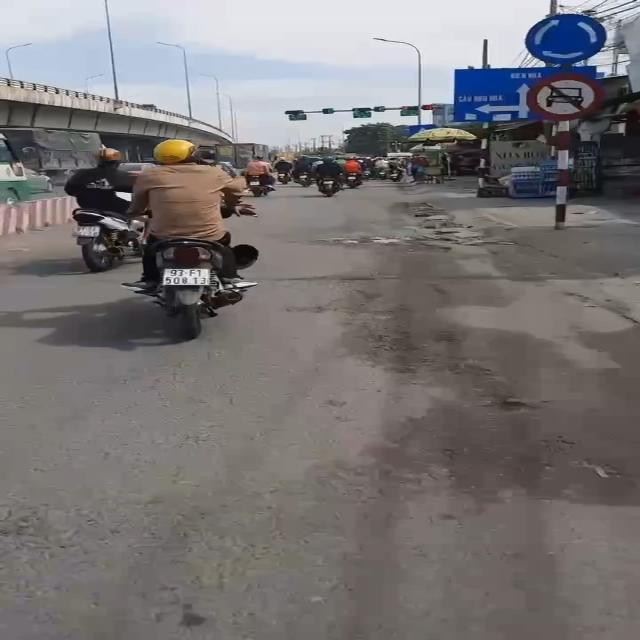103a-cam-oto: (528, 71, 606, 119)
303-noi-giao-nhau-chay-theo-vong-xuyen: (525, 13, 607, 62)
